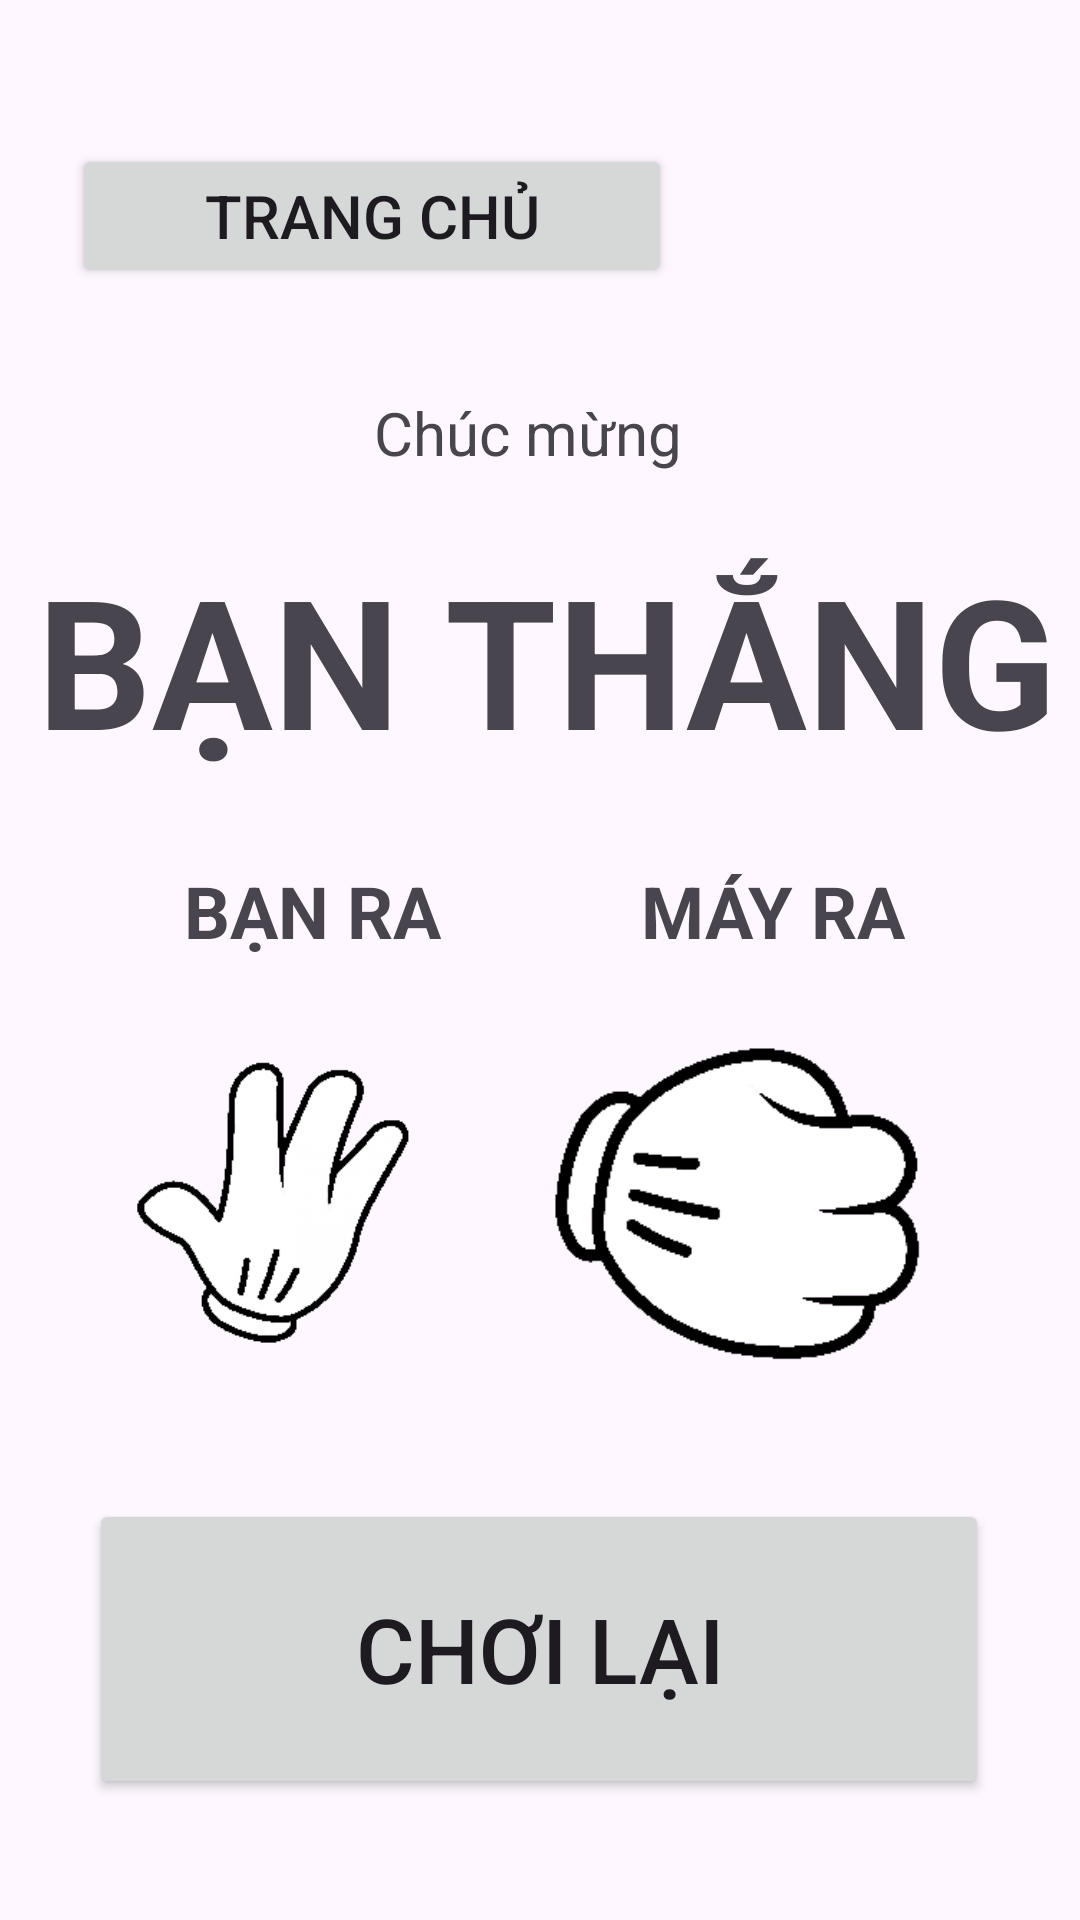

Icon bounding boxes for this 1080 × 1920 phone screenshot, format (x1, y1, x2, y2):
bao: (137, 1062, 409, 1343)
